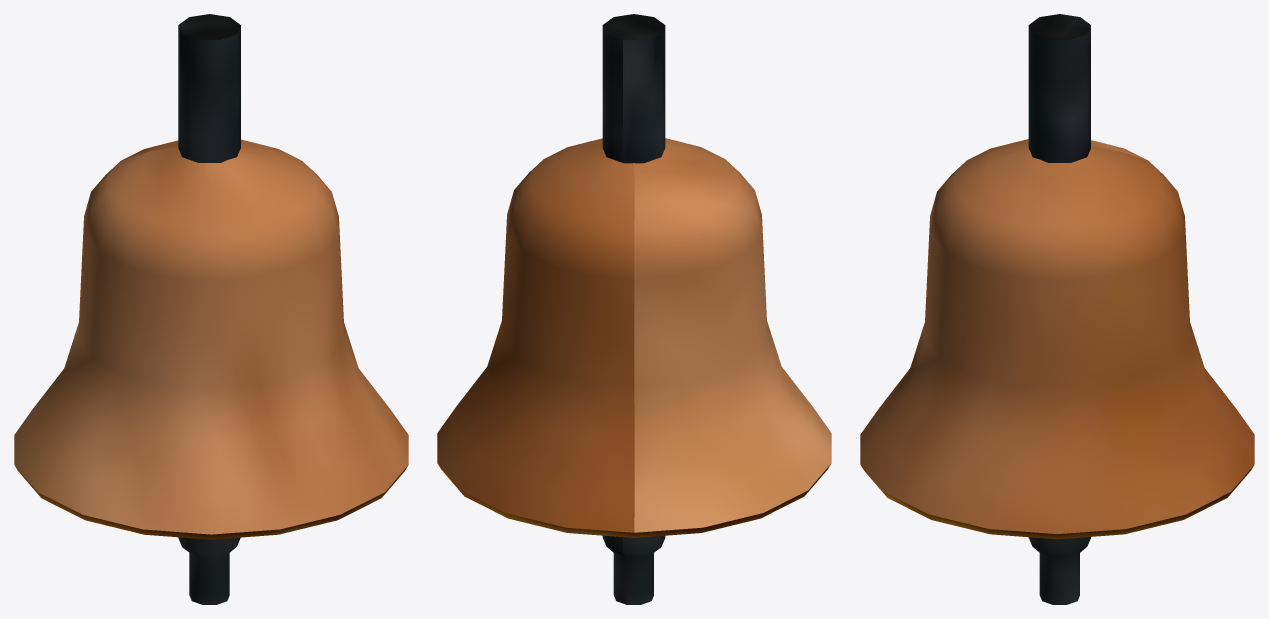
The model's file is Campana.obj.
3 renders of one model, left to right at view 1: azimuth 30°, elevation 25°; view 2: azimuth 150°, elevation 25°; view 3: azimuth 270°, elevation 25°, orthographic.
Visible parts, largest first — view 1: Campana; view 2: Campana; view 3: Campana.
Part boxes in pixels (left/top/right/bottom): Campana: left=14, top=14, right=408, bottom=604; Campana: left=437, top=14, right=831, bottom=604; Campana: left=860, top=14, right=1254, bottom=604.
Bounding box in the file's own units: 0.1773 × 0.2781 × 0.1746.
2 materials, 2 textured.
